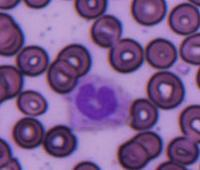N: (66, 74, 132, 131)
